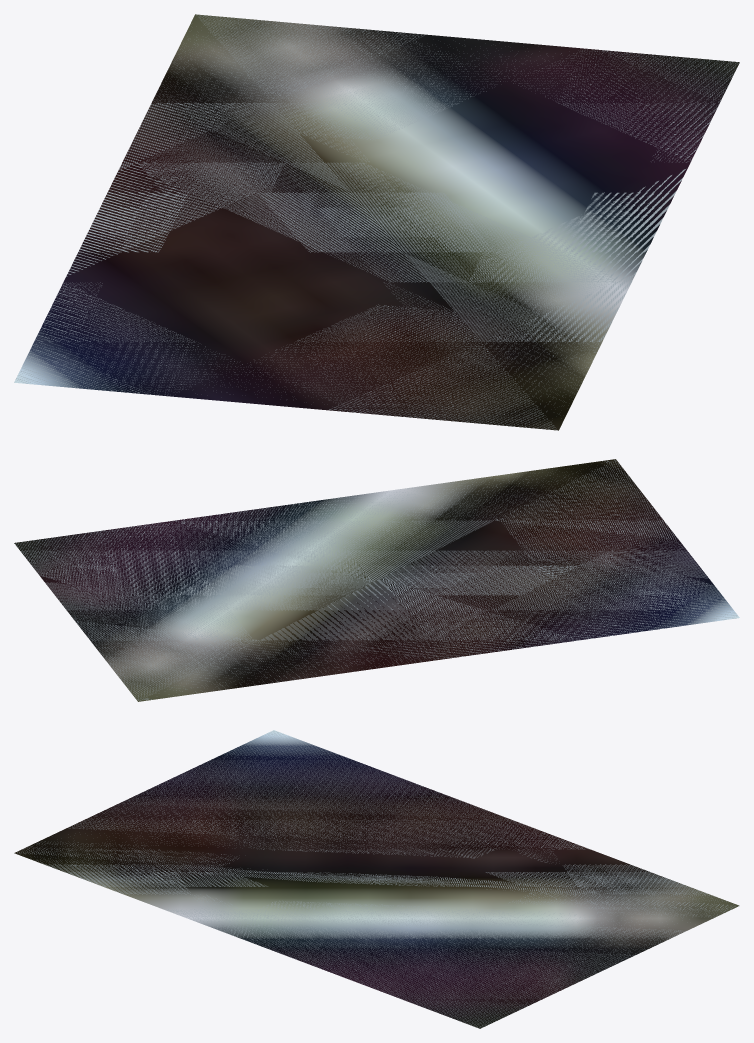
Rendered from 西庸城堡481.dae.
3 renders of one model, top to bottom at view 1: azimuth 30°, elevation 25°; view 2: azimuth 150°, elevation 25°; view 3: azimuth 270°, elevation 25°, orthographic. The views are drawn at different scales.
Parts seen in each view (by area): view 1: SketchUp; view 2: SketchUp; view 3: SketchUp.
Part boxes in pixels (left/top/right/bottom): SketchUp: left=14, top=14, right=739, bottom=430; SketchUp: left=14, top=459, right=739, bottom=701; SketchUp: left=14, top=730, right=739, bottom=1028.
Size of the model in its own units: 53.49 by 54.91 by 0.
